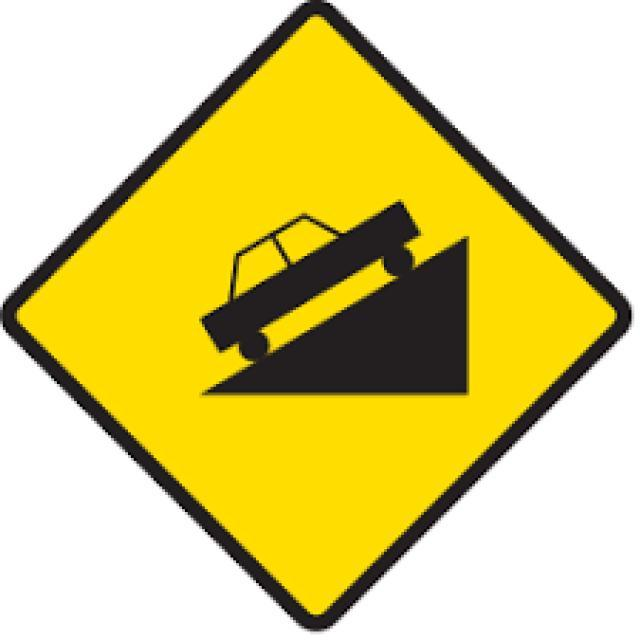steep ascent: (17, 20, 612, 618)
